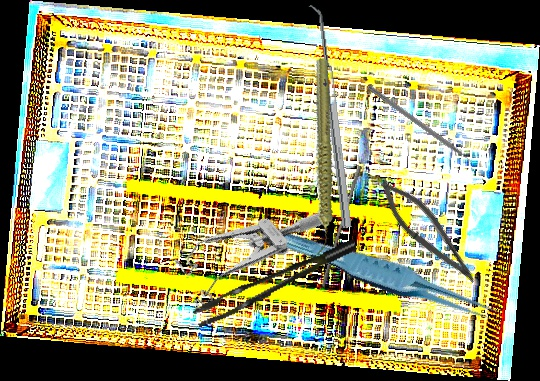Chopper: (363, 84, 479, 174)
Handpiece: (272, 55, 370, 257)
Micro Scissor: (369, 173, 489, 290)
Pusher: (320, 163, 363, 290)
Spatula Surgical: (306, 3, 352, 230)
Speculum: (161, 169, 327, 323)
Tissue Forceps: (274, 214, 503, 341), (187, 239, 365, 328)
